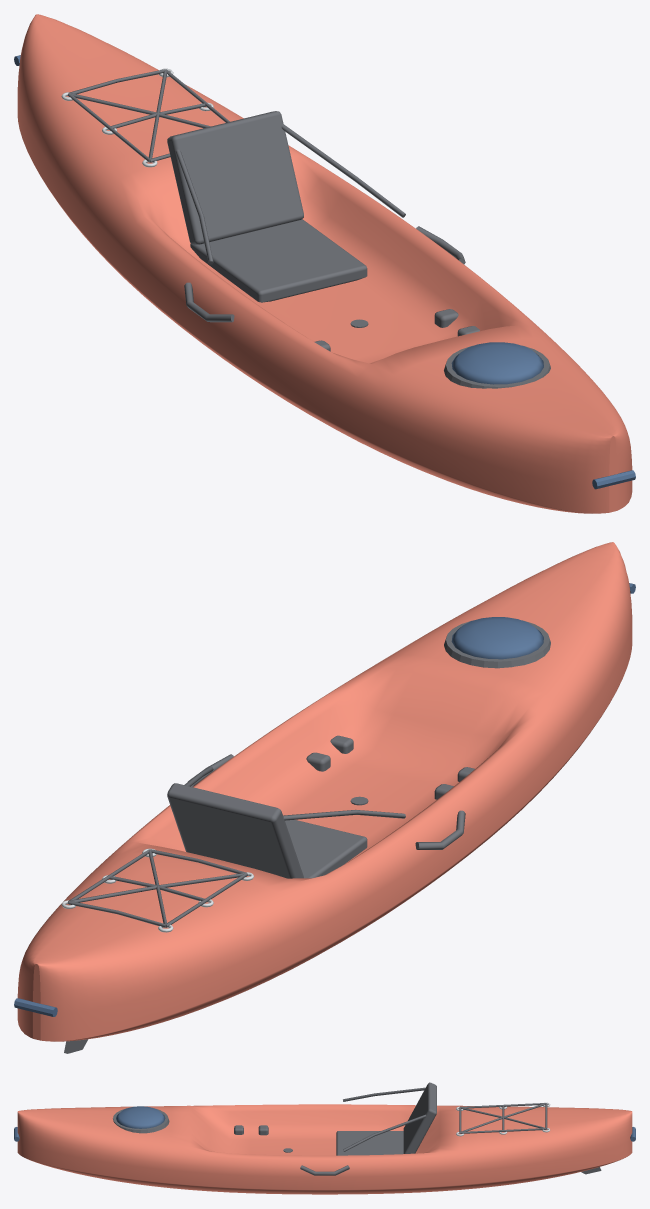
Rendered from beach-surf-and-paddle-kit-sit-on-top-kayak-07093469.glb.
The picture shows the model from 3 angles, top to bottom: view 1: azimuth 30°, elevation 25°; view 2: azimuth 150°, elevation 25°; view 3: azimuth 270°, elevation 25°; orthographic projection. The views are drawn at different scales.
Parts seen in each view (by area): view 1: sit-on-top-kayak-coral, sit-on-top-kayak-charcoal, sit-on-top-kayak-navy; view 2: sit-on-top-kayak-coral, sit-on-top-kayak-charcoal, sit-on-top-kayak-navy; view 3: sit-on-top-kayak-coral, sit-on-top-kayak-charcoal, sit-on-top-kayak-navy.
Boxes of the visible parts, box(x1,y1,x2,y2) form: sit-on-top-kayak-coral: box(17, 14, 632, 513); sit-on-top-kayak-charcoal: box(68, 69, 614, 474); sit-on-top-kayak-navy: box(14, 55, 635, 489); sit-on-top-kayak-coral: box(17, 542, 632, 1041); sit-on-top-kayak-charcoal: box(64, 620, 550, 1053); sit-on-top-kayak-navy: box(14, 583, 635, 1016); sit-on-top-kayak-coral: box(17, 1104, 632, 1194); sit-on-top-kayak-charcoal: box(113, 1082, 601, 1175); sit-on-top-kayak-navy: box(14, 1106, 635, 1141).
Bounding box in the file's own units: 0.8014 × 0.4535 × 3.14.
